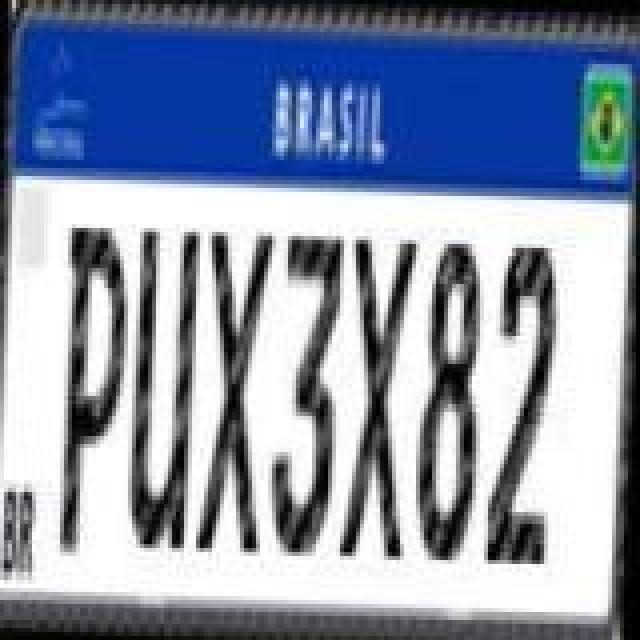2: (484, 238, 564, 570)
3: (268, 230, 348, 558)
8: (412, 236, 492, 560)
P: (56, 224, 136, 560)
U: (126, 228, 202, 556)
X: (194, 232, 278, 556), (340, 236, 420, 560)
